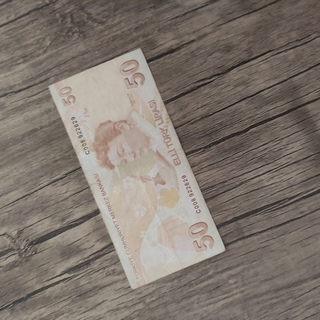50TLBack: (48, 47, 226, 290)
